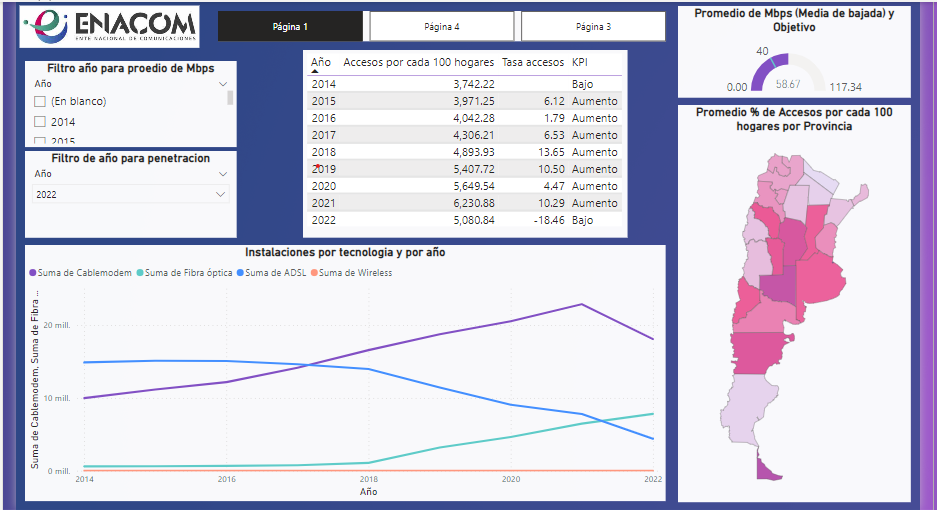

What the dashboard file says about the page in this screenshot:
{"tool":"powerbi","page":{"name":"Página 1","canvas":[1280,720],"ordinal":0},"visuals":[{"type":"shapeMap","title":"Promedio % de Accesos por cada 100 hogares por Provincia","fields":{"Category":["penetracion_data.Provincia"],"Value":["Avg(penetracion_data.Accesos por cada 100 hogares)"]},"box":[938.6,145.7,330,562.9],"z":0},{"type":"lineChart","title":"Instalaciones por tecnologia y por año","fields":{"Y":["Sum(accesos_tecnologia_data.Cablemodem)","Sum(accesos_tecnologia_data.Fibra óptica)","Sum(accesos_tecnologia_data.ADSL)","Sum(accesos_tecnologia_data.Wireless)"],"Category":["accesos_tecnologia_data.Año"]},"box":[13.3,345,908.3,363.3],"z":1000},{"type":"gauge","fields":{"Y":["Avg(accesos_velocidad_data.Mbps (Media de bajada))"],"TargetValue":["accesos_velocidad_data.Objetivo"]},"box":[938.6,5.7,330,130],"z":2000},{"type":"slicer","title":"Filtro año para proedio de Mbps","fields":{"Values":["accesos_velocidad_data.Año"]},"box":[13.3,83.3,300,121.7],"z":3000},{"type":"slicer","title":"Filtro de año para penetracion","fields":{"Values":["penetracion_data.Año"]},"box":[13.3,211.7,300,123.3],"z":4000},{"type":"image","box":[0,0,265,70],"z":5000},{"type":"pageNavigator","box":[286.7,13.3,635,43.3],"z":6000},{"type":"tableEx","fields":{"Values":["agrupado_de_accesos.Año","agrupado_de_accesos.Accesos por cada 100 hogares","agrupado_de_accesos.Tasa accesos","agrupado_de_accesos.tendencia_usuarios"]},"box":[407.1,68.6,460,265.7],"z":7000}]}

Visuals, with their boxes in screenshot pixels (x1, y1, x2, y2):
"Promedio % de Accesos por cada 100 hogares por Provincia" shapeMap: 675,104,906,497
"Instalaciones por tecnologia y por año" lineChart: 29,243,663,497
gauge - Avg(accesos_velocidad_data.Mbps (Media de bajada)) x accesos_velocidad_data.Objetivo: 675,6,906,97
"Filtro año para proedio de Mbps" slicer: 29,61,238,146
"Filtro de año para penetracion" slicer: 29,150,238,236
image: 20,2,205,51
pageNavigator: 220,12,663,42
tableEx - agrupado_de_accesos.Año x agrupado_de_accesos.Accesos por cada 100 hogares: 304,50,625,236
